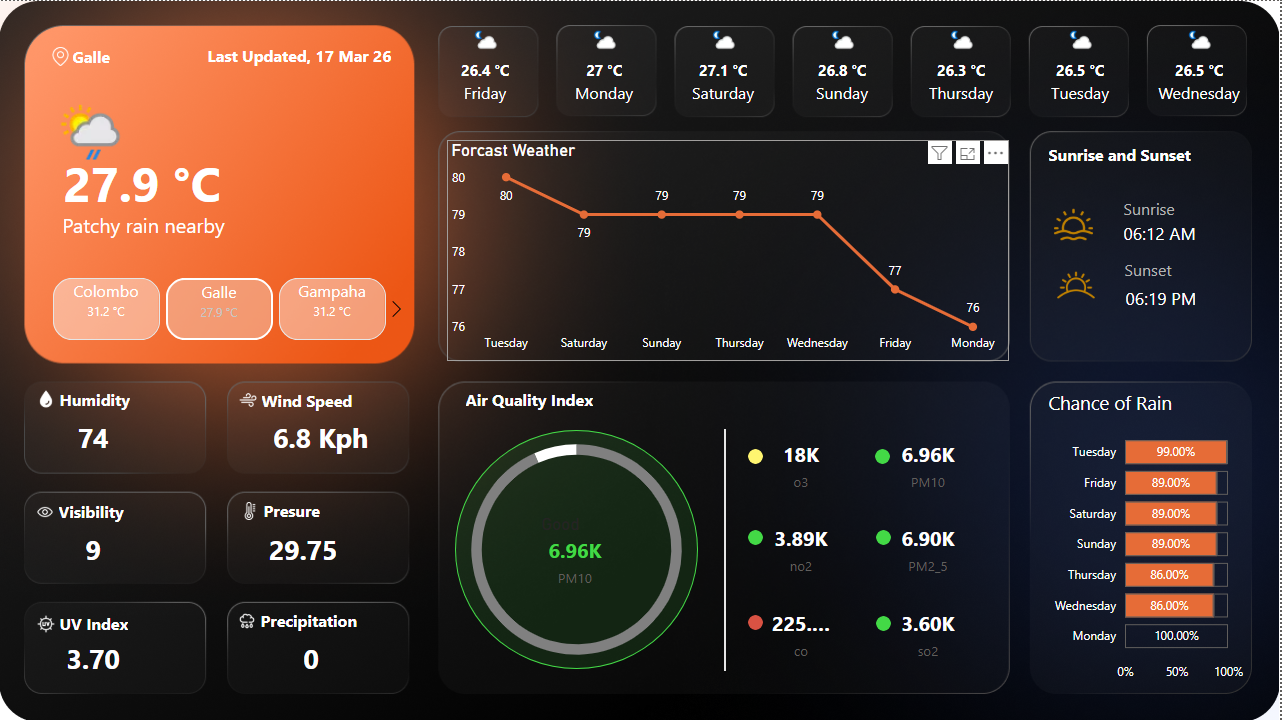

Layout of this report page (visuals, bound fields, positions):
{"tool":"powerbi","page":{"name":"Page 1","canvas":[1280,720],"ordinal":0},"visuals":[{"type":"image","box":[0,0,1280,720.1],"z":0},{"type":"shape","box":[455,429,243,239],"z":1000},{"type":"advancedSlicerVisual","fields":{"Values":["Current.location.name"],"Label":["_Measures.Curr_Temp"]},"box":[27.9,271.8,384.5,72],"z":2000},{"type":"shape","box":[64.4,132.2,193.3,97.8],"z":3000},{"type":"shape","box":[63.3,206.7,187.8,33.3],"z":4000},{"type":"shape","box":[73.3,38.9,144.4,33.3],"z":5000},{"type":"shape","box":[204.4,36.7,187.8,34.4],"z":6000},{"type":"image","box":[50.7,45,19.3,21.4],"z":7000},{"type":"cardVisual","fields":{"Data":["Min(Current.current.condition.icon)"]},"box":[0,5.6,183.3,175.6],"z":8000},{"type":"image","box":[36.9,388.1,18.1,19.4],"z":9000},{"type":"shape","box":[60,380.6,136.2,34.4],"z":10000},{"type":"image","box":[238.7,389,18.1,19.4],"z":11000},{"type":"shape","box":[261.8,381.5,136.2,34.4],"z":12000},{"type":"image","box":[36,500.9,18.1,19.4],"z":13000},{"type":"shape","box":[59.1,493.4,136.2,34.4],"z":14000},{"type":"image","box":[36.9,612.7,18.1,19.4],"z":15000},{"type":"shape","box":[60,605.2,136.2,34.4],"z":16000},{"type":"image","box":[240.5,499.9,18.1,19.4],"z":17000},{"type":"shape","box":[263.6,492.4,136.2,34.4],"z":18000},{"type":"image","box":[237.8,609.9,18.1,19.4],"z":19000},{"type":"shape","box":[260.9,602.4,136.2,34.4],"z":20000},{"type":"card","fields":{"Values":["Sum(Current.current.humidity)"]},"box":[37.5,408.8,110,57.5],"z":21000},{"type":"card","fields":{"Values":["_Measures.Wind_Speed"]},"box":[247.5,408.8,145,57.5],"z":22000},{"type":"card","fields":{"Values":["Sum(Current.current.vis_km)"]},"box":[37.5,521.2,110,57.5],"z":23000},{"type":"card","fields":{"Values":["Sum(Current.current.pressure_in)"]},"box":[247.5,521.2,110,57.5],"z":24000},{"type":"card","fields":{"Values":["Sum(Current.current.uv)"]},"box":[37.5,630,110,57.5],"z":25000},{"type":"card","fields":{"Values":["Sum(Current.current.precip_in)"]},"box":[256.2,630,110,57.5],"z":26000},{"type":"advancedSlicerVisual","fields":{"Values":["ForcastDay.DayName"]},"box":[405,21.7,875,98.3],"z":27000},{"type":"lineChart","title":"Forcast Weather","fields":{"Category":["ForcastDay.DayName"],"Y":["Sum(ForcastDay.forecast.forecastday.day.avghumidity)"]},"box":[447.1,138.6,561.4,221.4],"z":28000},{"type":"shape","box":[1048.6,135.7,198.6,34.3],"z":29000},{"type":"shape","box":[1124.2,218.3,142.5,25.8],"z":30000},{"type":"shape","box":[1124.2,187.5,155,38.3],"z":31000},{"type":"image","box":[1054.4,203.3,38.9,40],"z":32000},{"type":"image","box":[1051.1,257.8,50,52.2],"z":33000},{"type":"shape","box":[1125.6,283.3,142.2,26.7],"z":34000},{"type":"shape","box":[1125,248.6,155,38.3],"z":35000},{"type":"hundredPercentStackedBarChart","title":"Chance of Rain","fields":{"Y":["Sum(ForcastDay.forecast.forecastday.day.daily_chance_of_rain)","Current.LeftValueRain"],"Category":["ForcastDay.DayName"]},"box":[1043.8,388.8,203.8,300],"z":36000},{"type":"shape","box":[466.2,381.2,136.2,35],"z":37000},{"type":"card","fields":{"Values":["Sum(ColomboDistrict.current.air_quality.pm10)"]},"box":[890,426.2,76.2,73.8],"z":38000},{"type":"card","fields":{"Values":["Sum(ColomboDistrict.current.air_quality.pm2_5)"]},"box":[890,510,76.2,73.8],"z":39000},{"type":"card","fields":{"Values":["Sum(ColomboDistrict.current.air_quality.so2)"]},"box":[890,595,76.2,73.8],"z":40000},{"type":"card","fields":{"Values":["Sum(ColomboDistrict.current.air_quality.o3)"]},"box":[762.5,426.2,76.2,73.8],"z":41000},{"type":"card","fields":{"Values":["Sum(ColomboDistrict.current.air_quality.no2)"]},"box":[762.5,510,76.2,73.8],"z":42000},{"type":"card","fields":{"Values":["Sum(ColomboDistrict.current.air_quality.co)"]},"box":[762.5,595,76.2,73.8],"z":43000},{"type":"shape","box":[747.5,447.5,15,15],"z":44000},{"type":"shape","box":[875,447.5,15,15],"z":45000},{"type":"shape","box":[748.3,529.2,15,15],"z":46000},{"type":"shape","box":[875.8,529.2,15,15],"z":47000},{"type":"shape","box":[875.8,615,15,15],"z":48000},{"type":"shape","box":[747.5,614.2,15,15],"z":49000},{"type":"shape","box":[575,428.3,300,241.7],"z":50000},{"type":"card","fields":{"Values":["Sum(ColomboDistrict.current.air_quality.pm10)"]},"box":[536.7,513.3,76.7,73.3],"z":51000},{"type":"donutChart","fields":{"Y":["Sum(ColomboDistrict.current.air_quality.pm10)","_Measures.Left_PM10"]},"box":[440,411,273,275],"z":52000}]}

Visuals, with their boxes in screenshot pixels (x1, y1, x2, y2), scaled from the page's 1280x720 canvas onto the 1283x720 screenshot:
image: [0, 0, 1282, 719]
shape: [456, 429, 700, 668]
advancedSlicerVisual - Current.location.name x _Measures.Curr_Temp: [28, 272, 413, 344]
shape: [65, 132, 258, 230]
shape: [63, 207, 252, 240]
shape: [73, 39, 218, 72]
shape: [205, 37, 393, 71]
image: [51, 45, 70, 66]
cardVisual - Min(Current.current.condition.icon): [0, 6, 184, 181]
image: [37, 388, 55, 408]
shape: [60, 381, 197, 415]
image: [239, 389, 257, 408]
shape: [262, 382, 399, 416]
image: [36, 501, 54, 520]
shape: [59, 493, 196, 528]
image: [37, 613, 55, 632]
shape: [60, 605, 197, 640]
image: [241, 500, 259, 519]
shape: [264, 492, 401, 527]
image: [238, 610, 256, 629]
shape: [262, 602, 398, 637]
card - Sum(Current.current.humidity): [38, 409, 148, 466]
card - _Measures.Wind_Speed: [248, 409, 393, 466]
card - Sum(Current.current.vis_km): [38, 521, 148, 579]
card - Sum(Current.current.pressure_in): [248, 521, 358, 579]
card - Sum(Current.current.uv): [38, 630, 148, 688]
card - Sum(Current.current.precip_in): [257, 630, 367, 688]
advancedSlicerVisual - ForcastDay.DayName: [406, 22, 1282, 120]
"Forcast Weather" lineChart: [448, 139, 1011, 360]
shape: [1051, 136, 1250, 170]
shape: [1127, 218, 1270, 244]
shape: [1127, 188, 1282, 226]
image: [1057, 203, 1096, 243]
image: [1054, 258, 1104, 310]
shape: [1128, 283, 1271, 310]
shape: [1128, 249, 1282, 287]
"Chance of Rain" hundredPercentStackedBarChart: [1046, 389, 1251, 689]
shape: [467, 381, 604, 416]
card - Sum(ColomboDistrict.current.air_quality.pm10): [892, 426, 968, 500]
card - Sum(ColomboDistrict.current.air_quality.pm2_5): [892, 510, 968, 584]
card - Sum(ColomboDistrict.current.air_quality.so2): [892, 595, 968, 669]
card - Sum(ColomboDistrict.current.air_quality.o3): [764, 426, 841, 500]
card - Sum(ColomboDistrict.current.air_quality.no2): [764, 510, 841, 584]
card - Sum(ColomboDistrict.current.air_quality.co): [764, 595, 841, 669]
shape: [749, 448, 764, 462]
shape: [877, 448, 892, 462]
shape: [750, 529, 765, 544]
shape: [878, 529, 893, 544]
shape: [878, 615, 893, 630]
shape: [749, 614, 764, 629]
shape: [576, 428, 877, 670]
card - Sum(ColomboDistrict.current.air_quality.pm10): [538, 513, 615, 587]
donutChart - Sum(ColomboDistrict.current.air_quality.pm10) x _Measures.Left_PM10: [441, 411, 715, 686]
